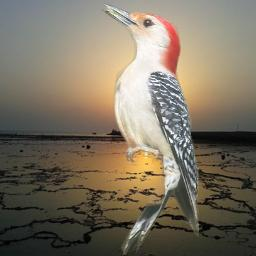Woodpecker: (97, 2, 199, 255)
